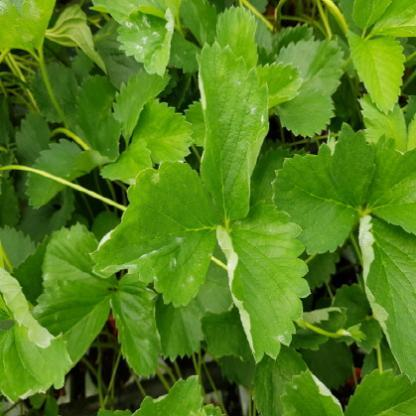Strawberry_Powdery_Mildew_Leaf: (88, 159, 224, 309), (214, 197, 312, 365), (194, 40, 270, 222), (34, 221, 118, 365), (358, 212, 415, 384), (115, 7, 176, 79), (277, 368, 346, 415)
